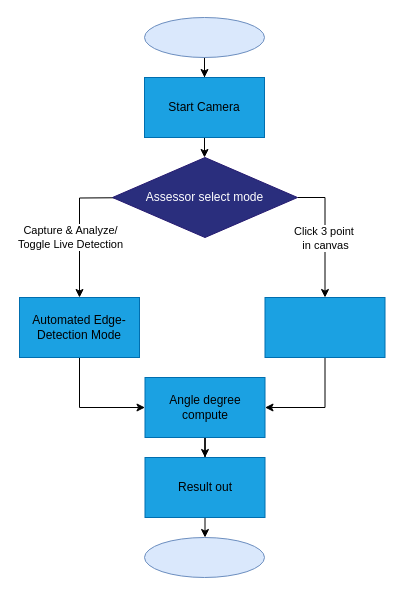
Some shapes in this 402 by 595 pixel diagram are drawn without their labels. Here are the shapes that lost their labels. From the top down, the centre of each, then its label:
At point (204, 37): "Start".
At point (324, 327): "Manual Three-Point Selection Mode".
At point (204, 557): "End".
